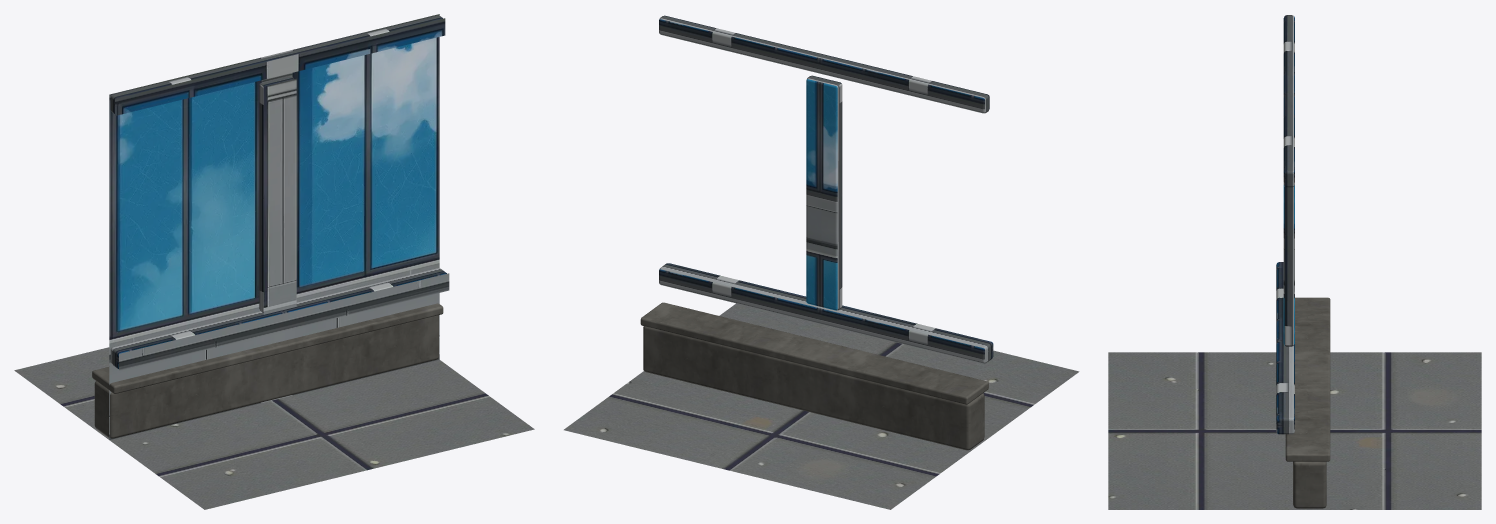
Rendered from town_office.glb.
The picture shows the model from 3 angles, left to right: view 1: azimuth 30°, elevation 25°; view 2: azimuth 150°, elevation 25°; view 3: azimuth 270°, elevation 25°; orthographic projection. The views are drawn at different scales.
Parts seen in each view (by area): view 1: prop (×3); view 2: prop (×3); view 3: prop (×3).
Boxes of the visible parts, x1,y1,x2,y2 form: prop (×3): (14, 14, 534, 509); prop (×3): (564, 15, 1079, 509); prop (×3): (1108, 15, 1481, 509).
Bounding box in the file's own units: 1 × 1 × 1.
Materials: 3 (3 with a texture image).
